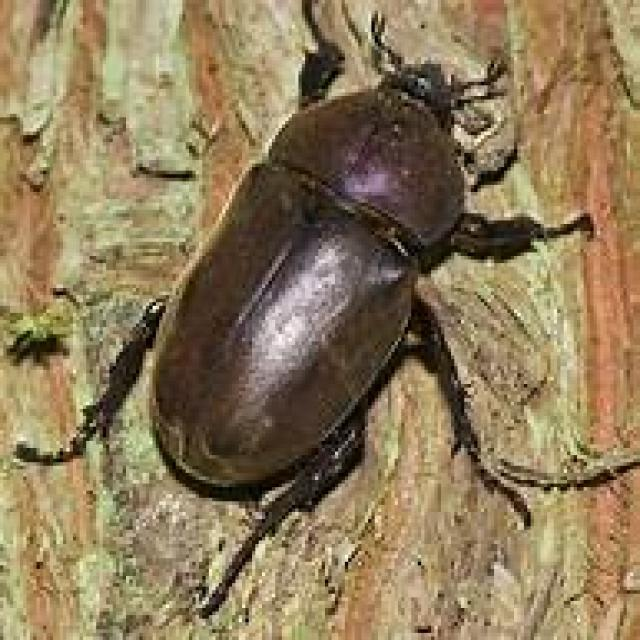Rhino-beetle: (88, 59, 552, 570)
